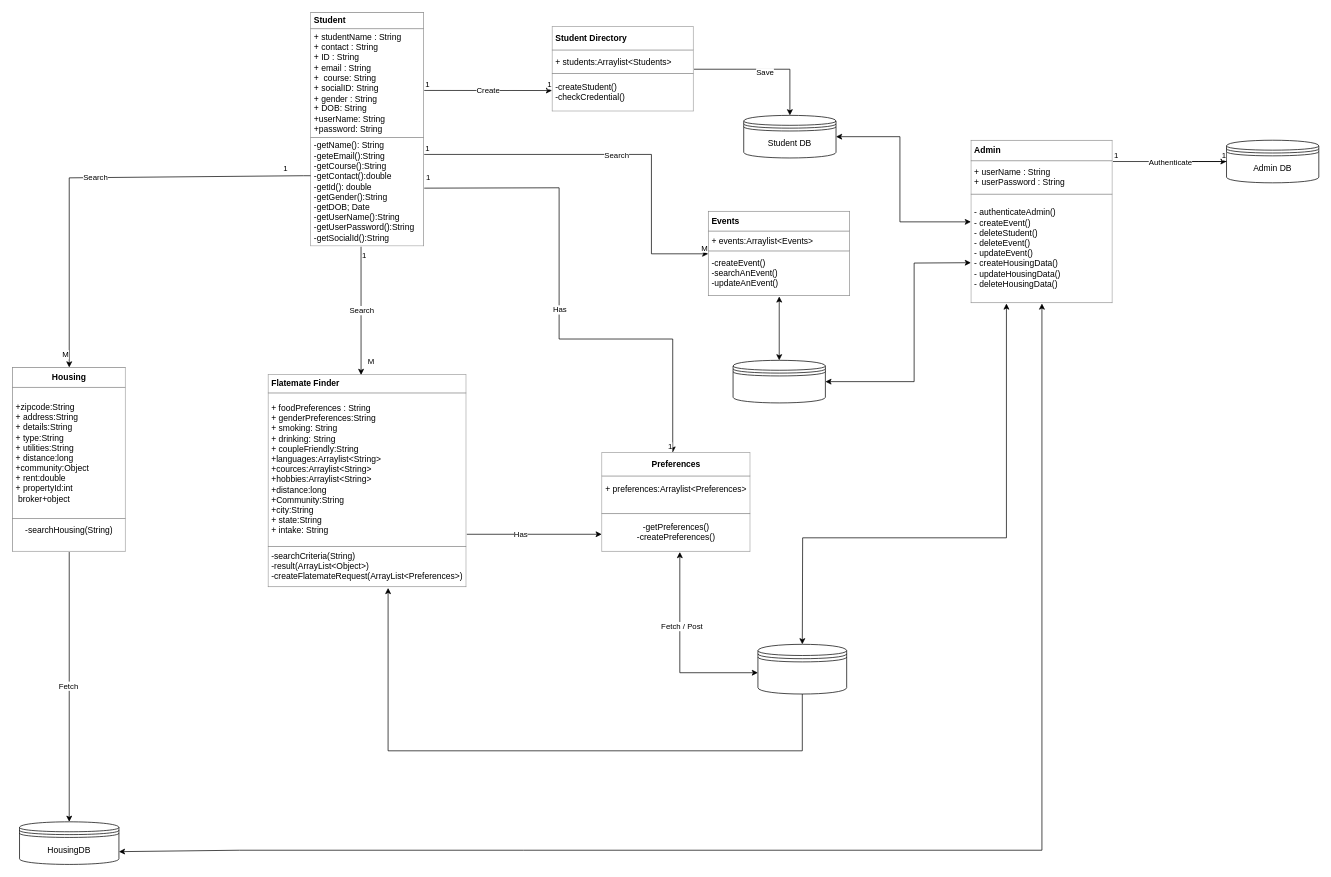
The diagram is 1331 pixels wide and 877 high, and some of its shapes have lost their labels. Here are the shapes that lost their labels. From the top down, the box of each, then its label:
(732, 360, 825, 403): Events DB
(757, 644, 847, 694): Search DB
